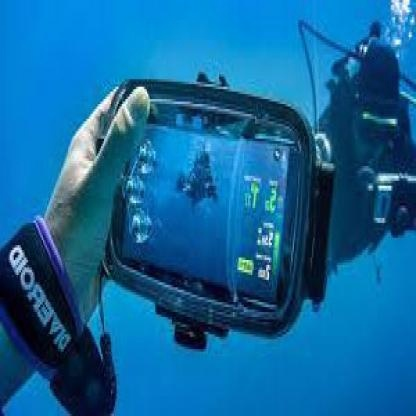electronics: (108, 79, 327, 347)
